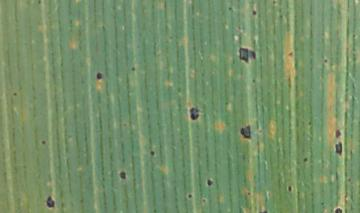tarspot: (239, 47, 256, 64), (241, 124, 252, 139), (46, 195, 56, 209), (189, 107, 199, 121), (335, 140, 343, 156), (206, 176, 214, 187), (119, 171, 127, 180), (39, 138, 47, 146), (129, 65, 137, 73), (96, 71, 103, 80), (322, 56, 329, 65), (334, 128, 341, 137), (185, 192, 193, 199), (251, 8, 258, 16), (287, 185, 293, 194), (149, 149, 156, 156), (11, 91, 19, 97), (251, 76, 257, 84), (246, 188, 251, 197), (308, 117, 313, 126), (201, 197, 207, 204), (227, 5, 233, 12), (335, 207, 342, 213), (303, 156, 309, 163), (287, 50, 293, 57), (258, 209, 268, 213), (347, 175, 352, 182), (36, 1, 42, 5), (321, 201, 325, 206)
